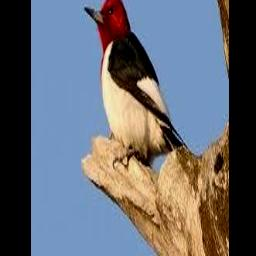Woodpecker: (84, 0, 183, 159)
